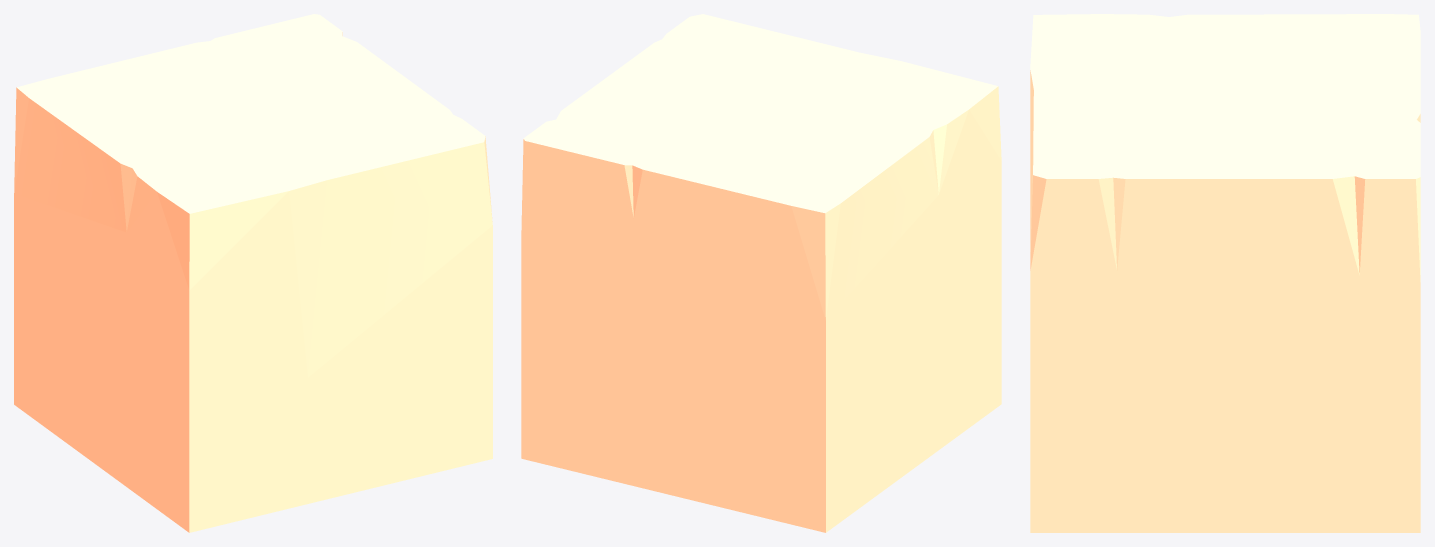
Rendered from OrangeBox.glb.
The picture shows the model from 3 angles, left to right: view 1: azimuth 30°, elevation 25°; view 2: azimuth 150°, elevation 25°; view 3: azimuth 270°, elevation 25°; orthographic projection. The views are drawn at different scales.
Visible parts, largest first — view 1: SM_PolygonPrototype_Buildings_Floor_5x5_01P; view 2: SM_PolygonPrototype_Buildings_Floor_5x5_01P; view 3: SM_PolygonPrototype_Buildings_Floor_5x5_01P.
Boxes of the visible parts, <box> form: SM_PolygonPrototype_Buildings_Floor_5x5_01P: <box>14,14,492,532</box>; SM_PolygonPrototype_Buildings_Floor_5x5_01P: <box>521,14,1001,532</box>; SM_PolygonPrototype_Buildings_Floor_5x5_01P: <box>1030,14,1420,532</box>.
Bounding box in the file's own units: 1 × 1 × 1.
